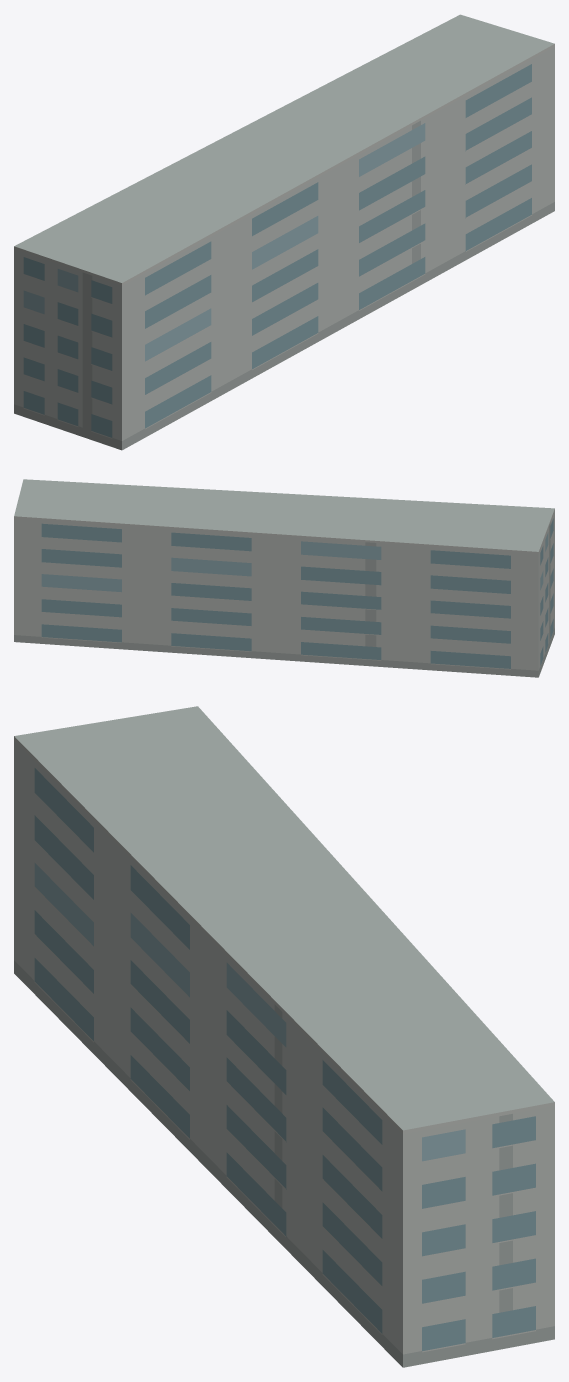
Rendered from residential-263bc25b-2b58-4177-a293-9ec4a17d3a85.glb.
3 views of the same model, one above another, from view 1: azimuth 30°, elevation 25°; view 2: azimuth 150°, elevation 25°; view 3: azimuth 270°, elevation 25° (orthographic). The views are drawn at different scales.
Visible parts, largest first — view 1: residential-263bc25b-2b58-4177-a293-9ec4a17d3a85.tmp; view 2: residential-263bc25b-2b58-4177-a293-9ec4a17d3a85.tmp; view 3: residential-263bc25b-2b58-4177-a293-9ec4a17d3a85.tmp.
Part boxes in pixels (x1=…): residential-263bc25b-2b58-4177-a293-9ec4a17d3a85.tmp: x1=14, y1=14, x2=554, y2=450; residential-263bc25b-2b58-4177-a293-9ec4a17d3a85.tmp: x1=14, y1=479, x2=554, y2=677; residential-263bc25b-2b58-4177-a293-9ec4a17d3a85.tmp: x1=14, y1=706, x2=554, y2=1367.
Bounding box in the file's own units: 58.5 × 15.25 × 31.51.
